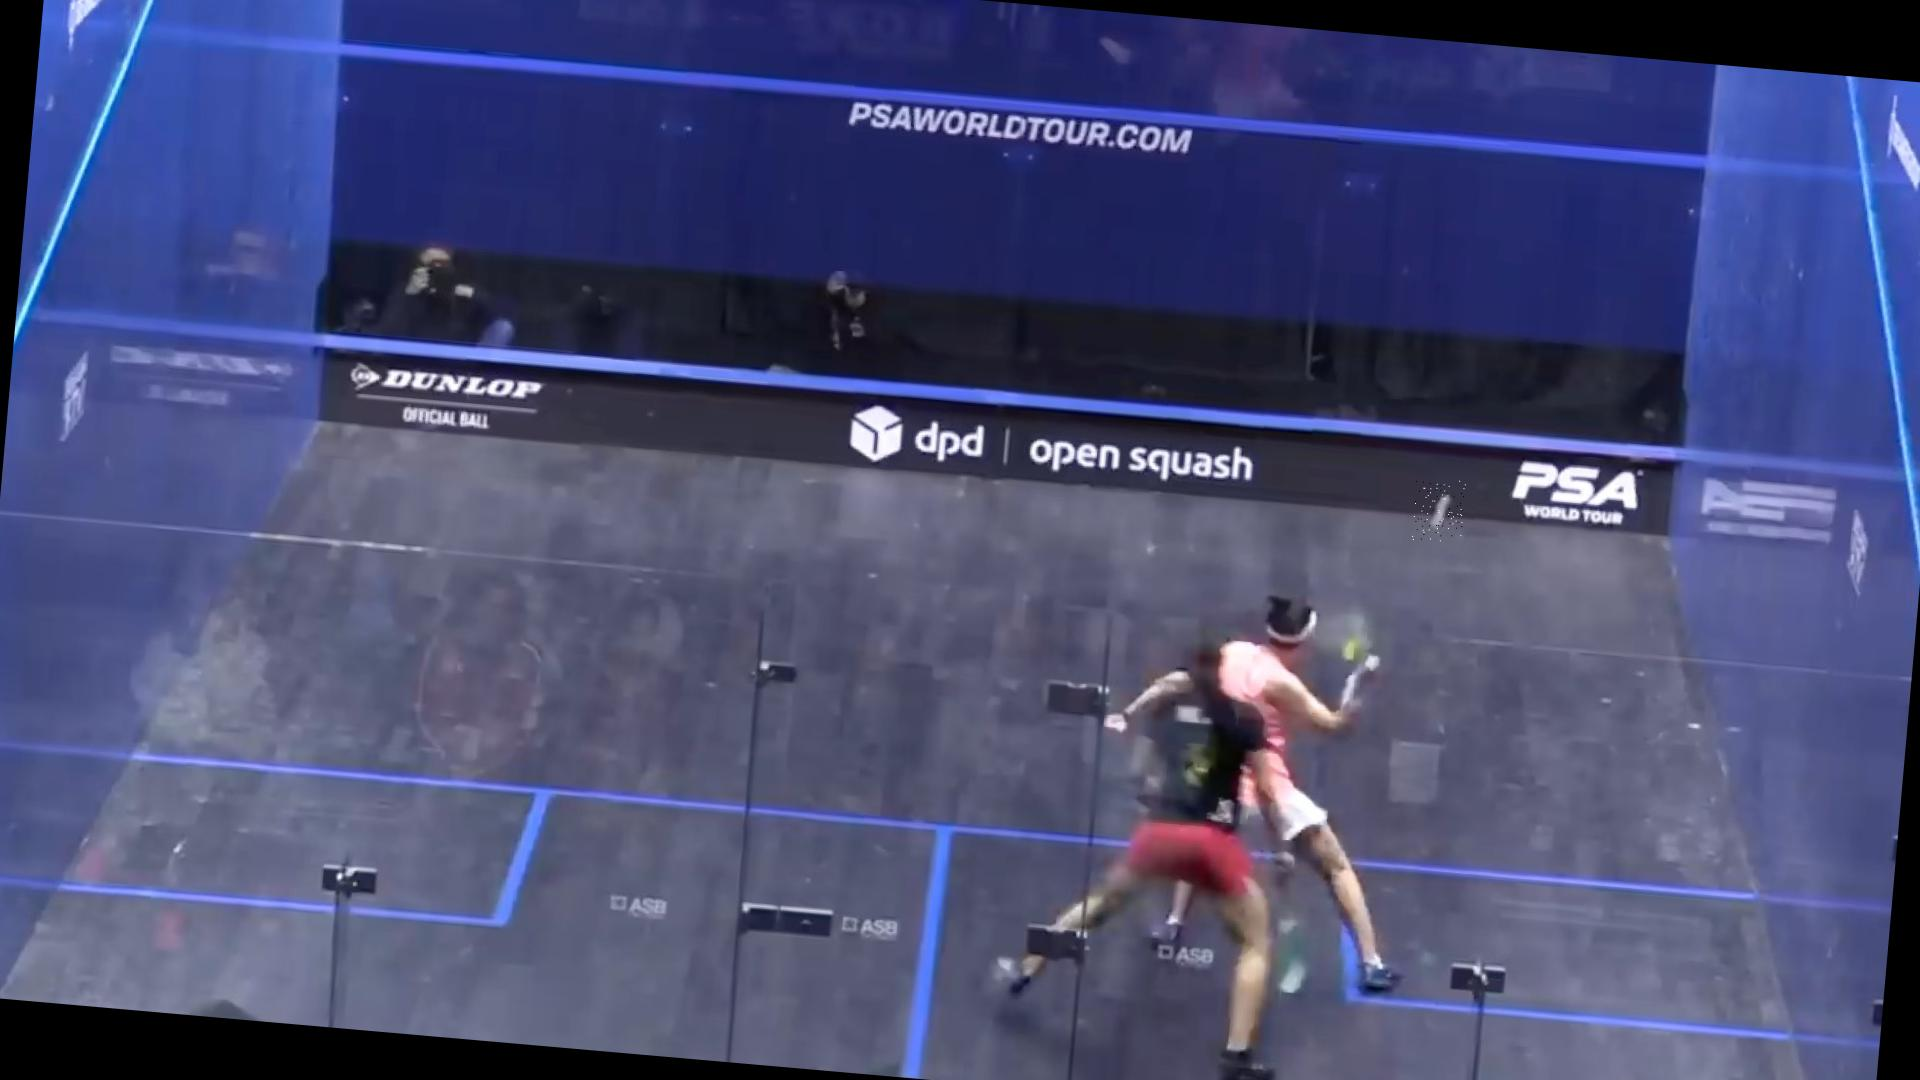Squash-Ball: (1411, 476, 1466, 543)
